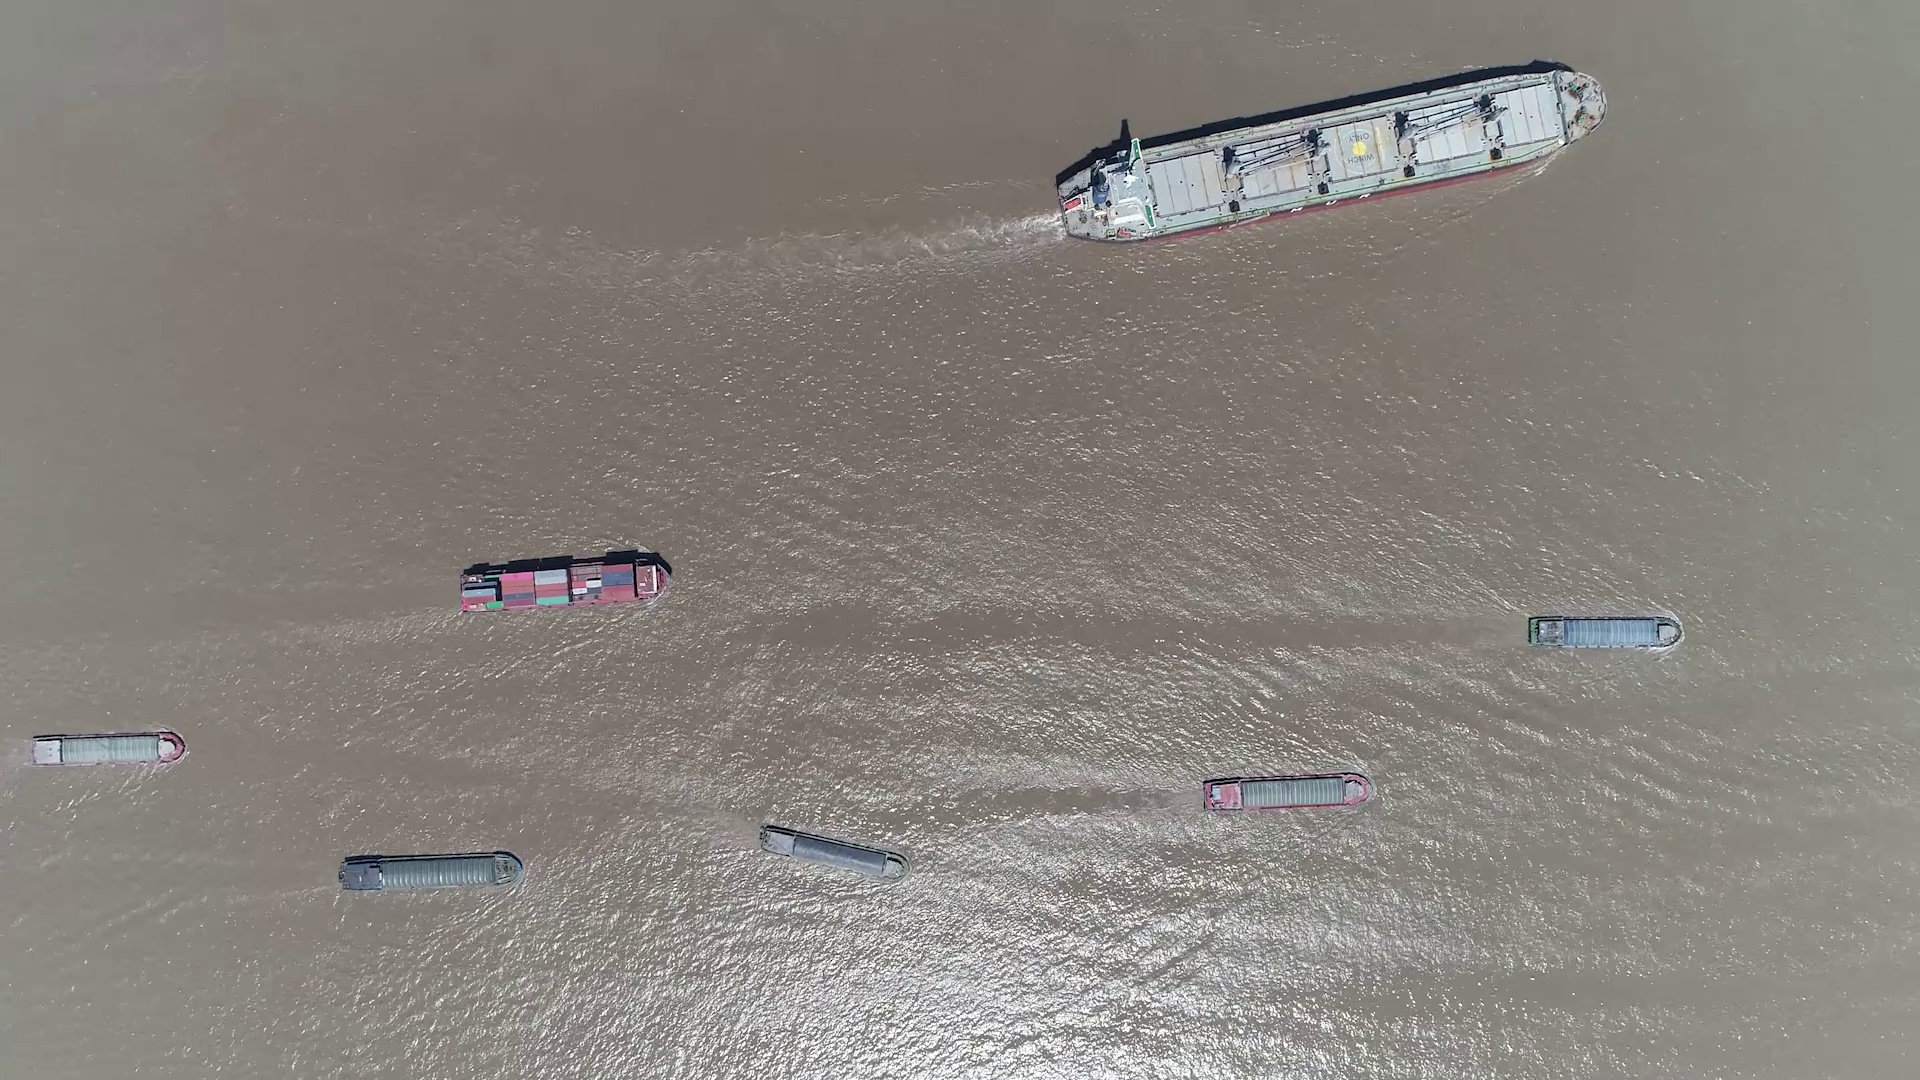ship: (1054, 74, 1606, 240), (459, 556, 670, 615), (757, 825, 906, 880), (340, 851, 524, 890), (1203, 773, 1371, 812), (26, 731, 185, 767), (1528, 615, 1680, 649)
